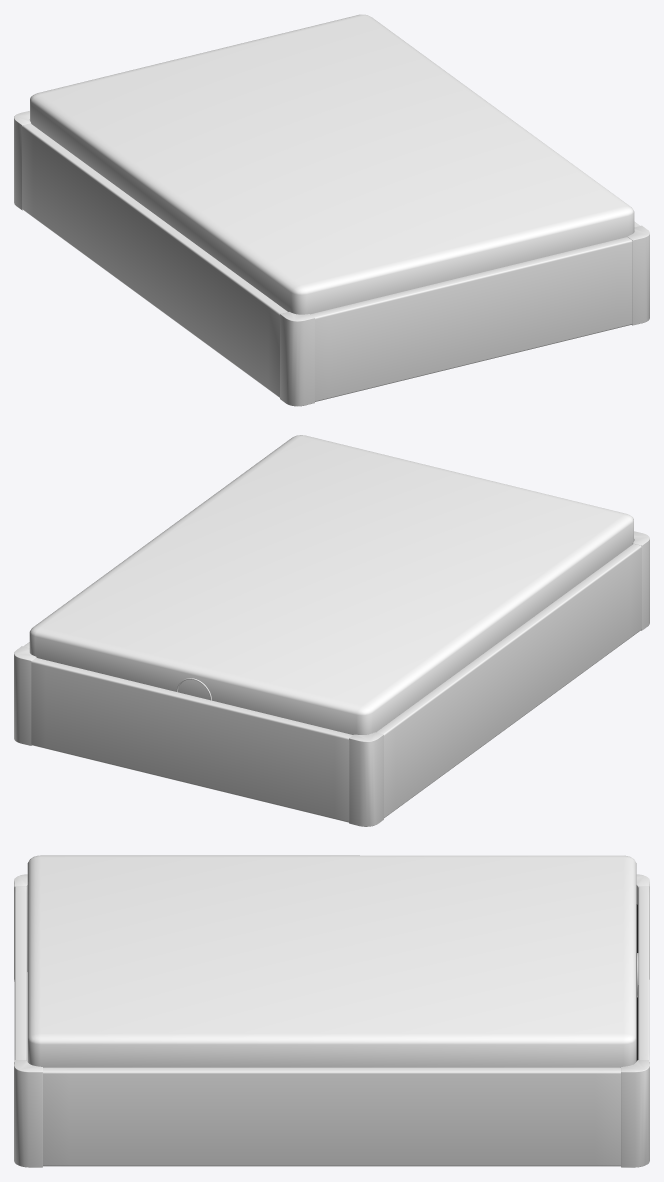
Rendered from abo-B07GFVJWNM.glb.
3 views of the same model, one above another, from view 1: azimuth 30°, elevation 25°; view 2: azimuth 150°, elevation 25°; view 3: azimuth 270°, elevation 25° (orthographic). The views are drawn at different scales.
Size of the model in its own units: 1.4 by 0.406 by 1.9.
Materials: 1 (1 with a texture image).
